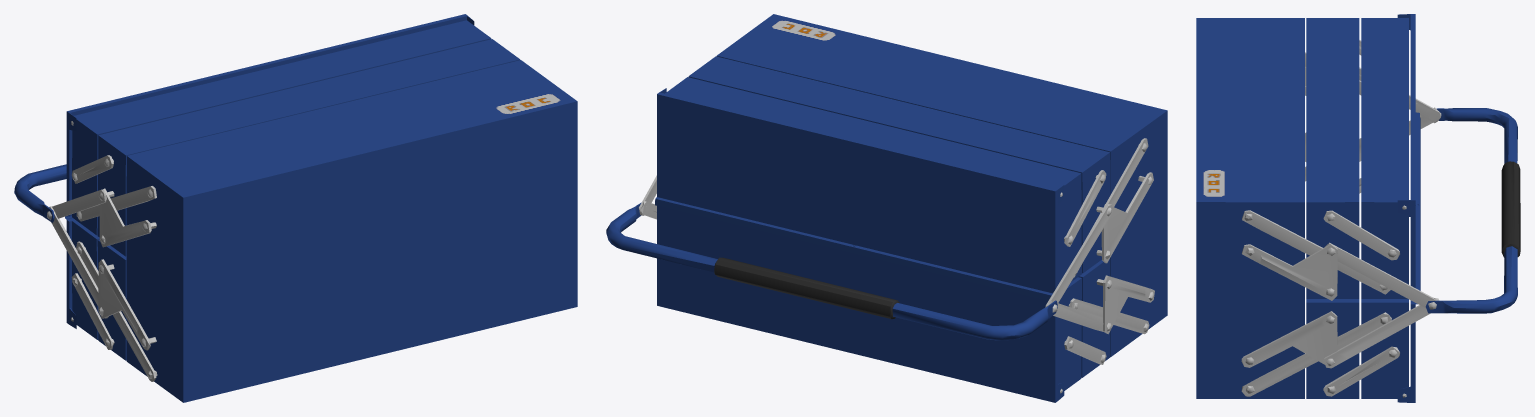
The model's file is ToolBox Mesh.fbx.
The picture shows the model from 3 angles, left to right: view 1: azimuth 30°, elevation 25°; view 2: azimuth 150°, elevation 25°; view 3: azimuth 270°, elevation 25°; orthographic projection. The views are drawn at different scales.
Visible parts, largest first — view 1: ToolBox LOD0; view 2: ToolBox LOD0; view 3: ToolBox LOD0.
Boxes of the visible parts, bbox=[...] form: ToolBox LOD0: bbox=[14, 14, 577, 402]; ToolBox LOD0: bbox=[606, 14, 1167, 402]; ToolBox LOD0: bbox=[1196, 14, 1520, 402].
Size of what is drawn, in the model's own units: 0.386 by 0.1843 by 0.2672.
1 material, 1 textured.
